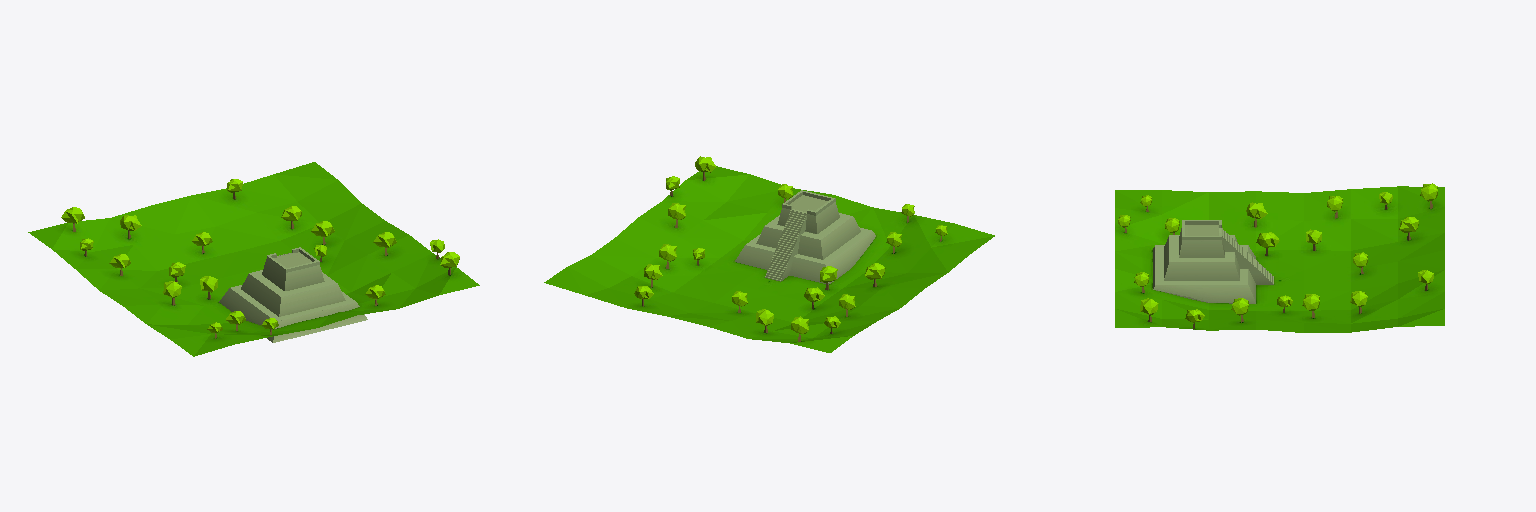
The picture shows the model from 3 angles: view 1: azimuth 30°, elevation 25°; view 2: azimuth 150°, elevation 25°; view 3: azimuth 270°, elevation 25°; orthographic projection.
Parts seen in each view (by area): view 1: terrain, temple_002; view 2: terrain, temple_002; view 3: terrain, temple_002.
Part boxes in pixels (left/top/right/bottom): terrain: left=28, top=162, right=479, bottom=356; temple_002: left=219, top=247, right=367, bottom=342; terrain: left=544, top=166, right=994, bottom=352; temple_002: left=735, top=190, right=875, bottom=284; terrain: left=1115, top=186, right=1444, bottom=332; temple_002: left=1153, top=220, right=1273, bottom=303.
Bounding box in the file's own units: 241 × 42.15 × 238.
Materials: 3 (3 with a texture image).